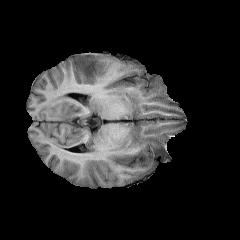glioma: (74, 56, 105, 79)
